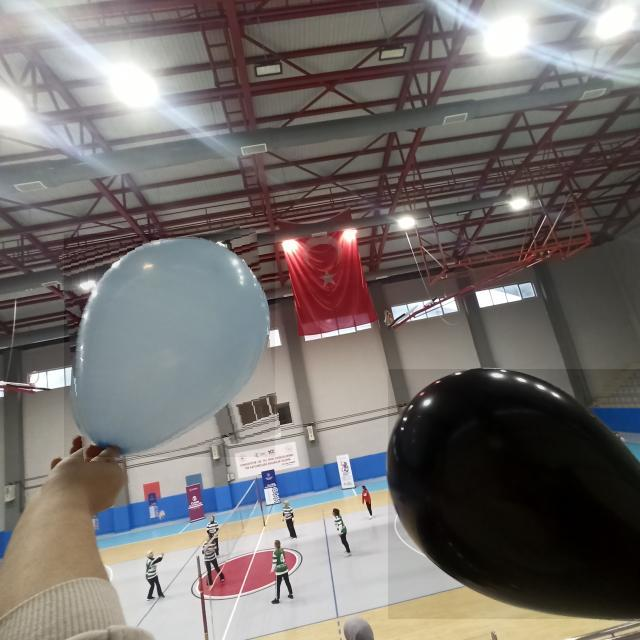balloon: (388, 369, 640, 619), (64, 234, 275, 457)
